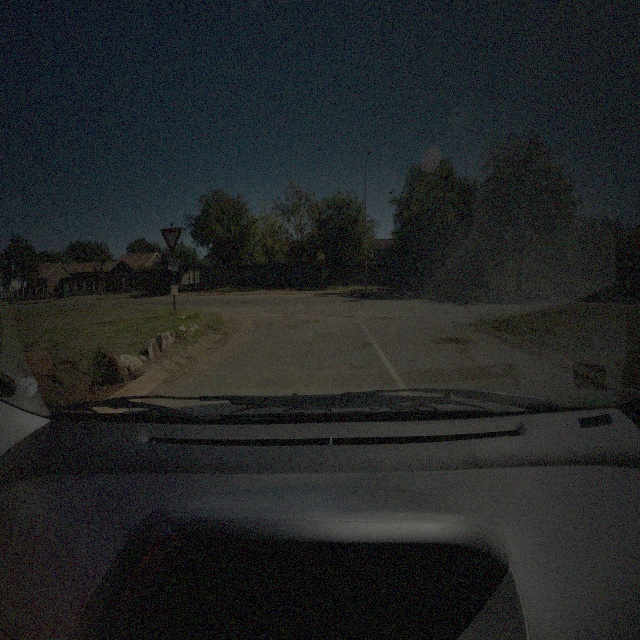pothole: (429, 335, 471, 348), (375, 314, 394, 322), (342, 314, 356, 320), (306, 318, 318, 325)
